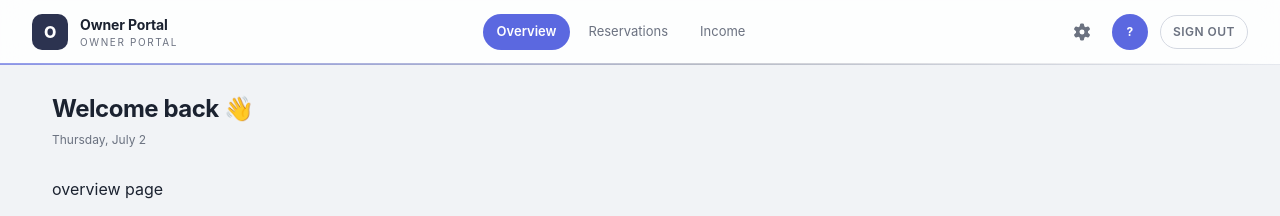
Test case: ClientShell › navigates between tabs
Expected: the text "overview page" is shown, x1=52 y1=179 x2=163 y2=199
Step 1. Click the link named "settings" → (1082, 32), box x1=1072 y1=24 x2=1092 y2=40
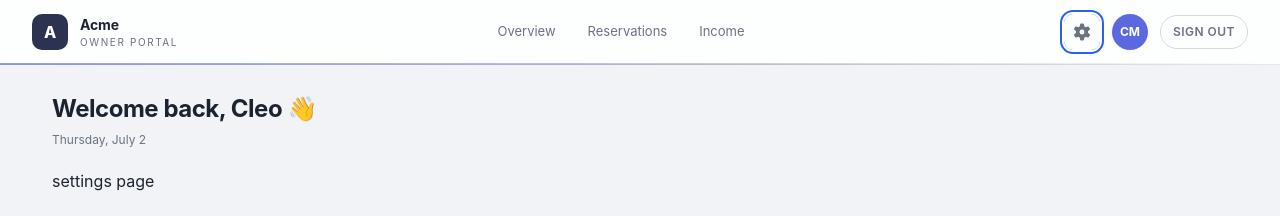
Expected: the text "settings page" is shown, x1=52 y1=171 x2=154 y2=191
